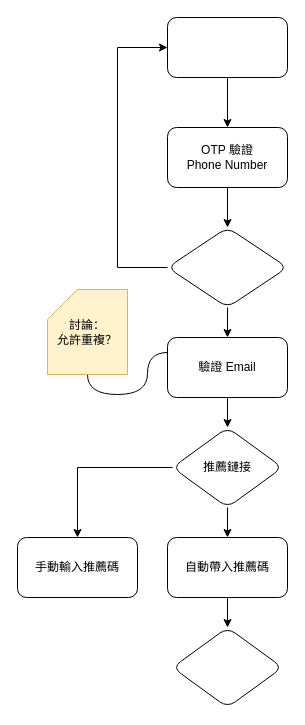
Some shapes in this 305 by 725 pixel diagram are drawn without their labels. Here are the shapes that lost their labels. From the top down, the centre of each, then its label:
(x=227, y=47): 註冊
(x=227, y=267): 未有重複
(x=227, y=667): 有無推薦馬
